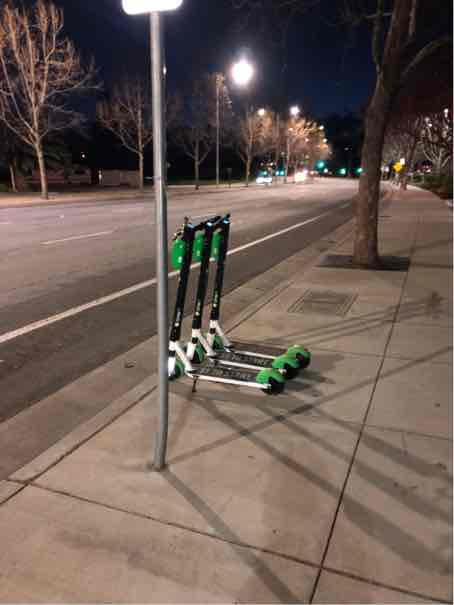too close: (147, 349, 190, 393)
